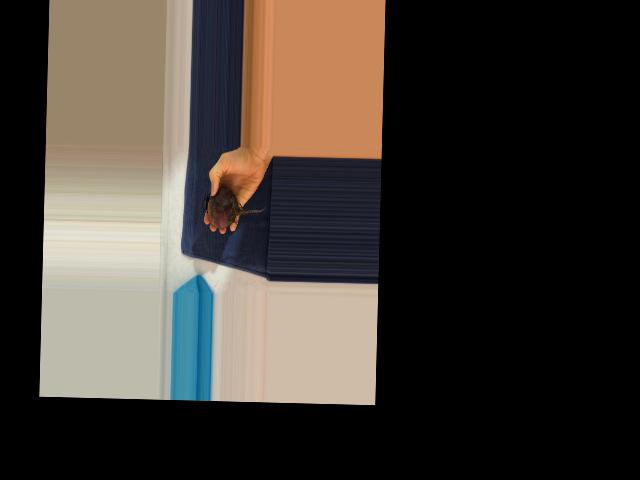beet: (202, 187, 267, 230)
